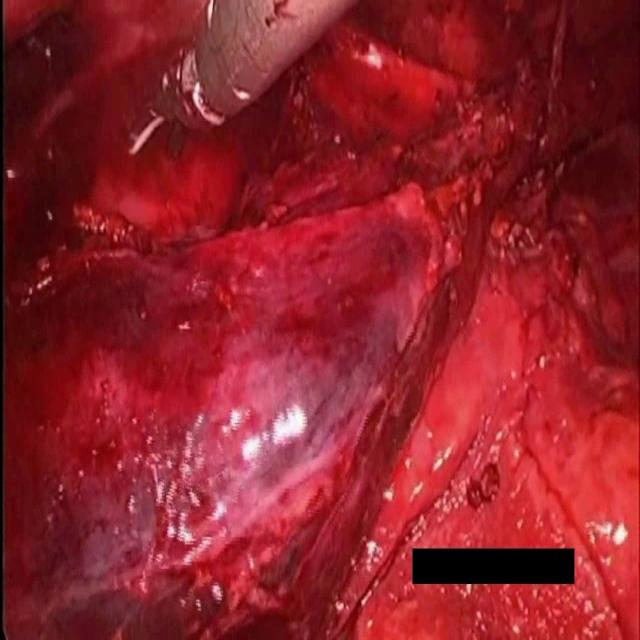surgical-area: (0, 0, 640, 639), (398, 543, 640, 639)
surgical-tool: (122, 0, 356, 156)
